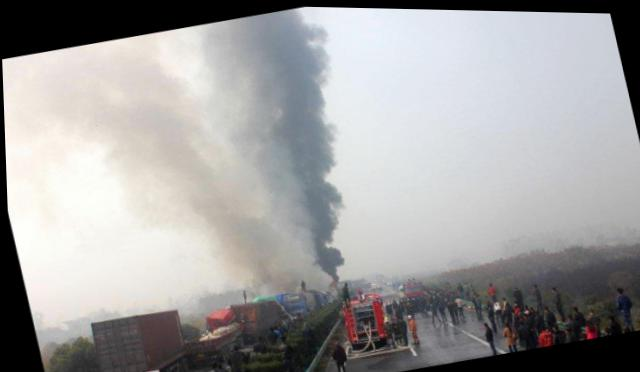smoke: (1, 36, 162, 107), (94, 68, 234, 144), (127, 118, 254, 194), (165, 163, 280, 238), (207, 5, 327, 71), (232, 43, 333, 112), (218, 218, 298, 290), (251, 92, 337, 155), (265, 138, 342, 206), (281, 191, 348, 250), (309, 242, 343, 280)
